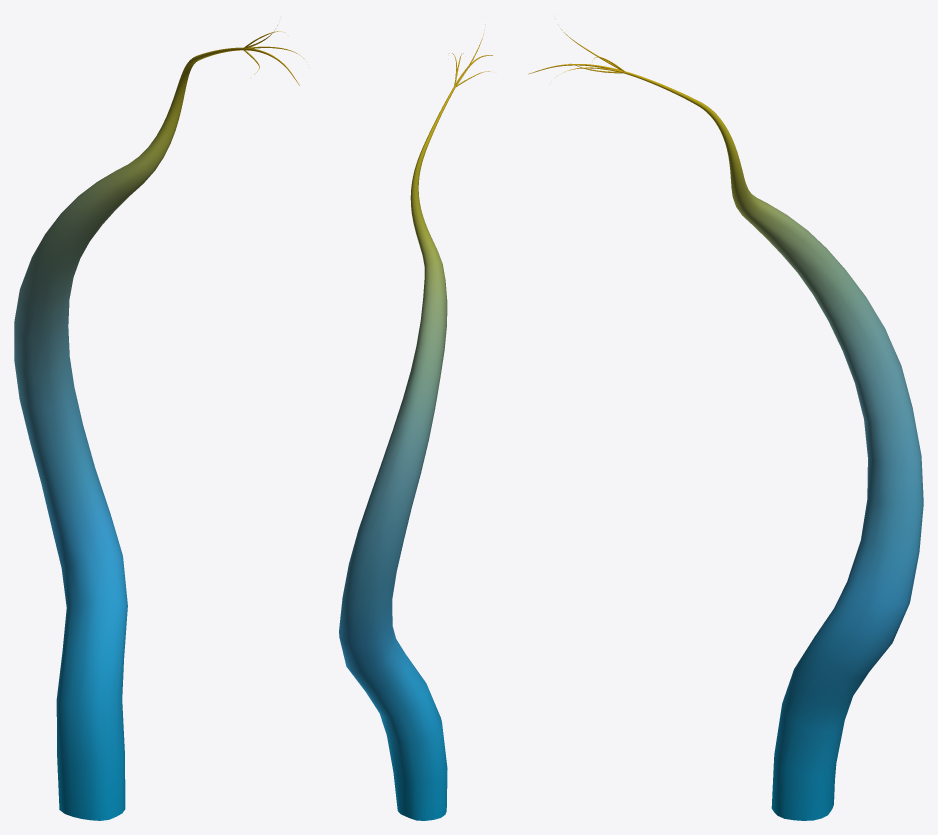
The model's file is Tentacle_H.fbx.
The picture shows the model from 3 angles, left to right: view 1: azimuth 30°, elevation 25°; view 2: azimuth 150°, elevation 25°; view 3: azimuth 270°, elevation 25°; orthographic projection. The views are drawn at different scales.
Parts seen in each view (by area): view 1: Tentacle_H_LOD0; view 2: Tentacle_H_LOD0; view 3: Tentacle_H_LOD0.
Boxes of the visible parts, box(x1,y1,x2,y2) form: Tentacle_H_LOD0: box(14, 25, 304, 820); Tentacle_H_LOD0: box(339, 24, 492, 820); Tentacle_H_LOD0: box(528, 28, 923, 820).
Size of what is drawn, in the model's own units: 53.44 by 372 by 163.
